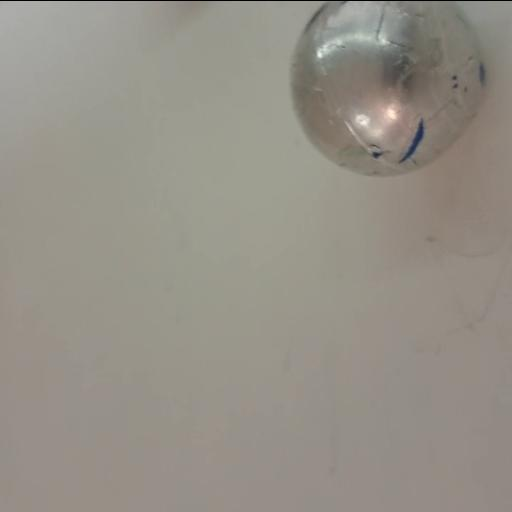alive: (283, 0, 489, 182)
